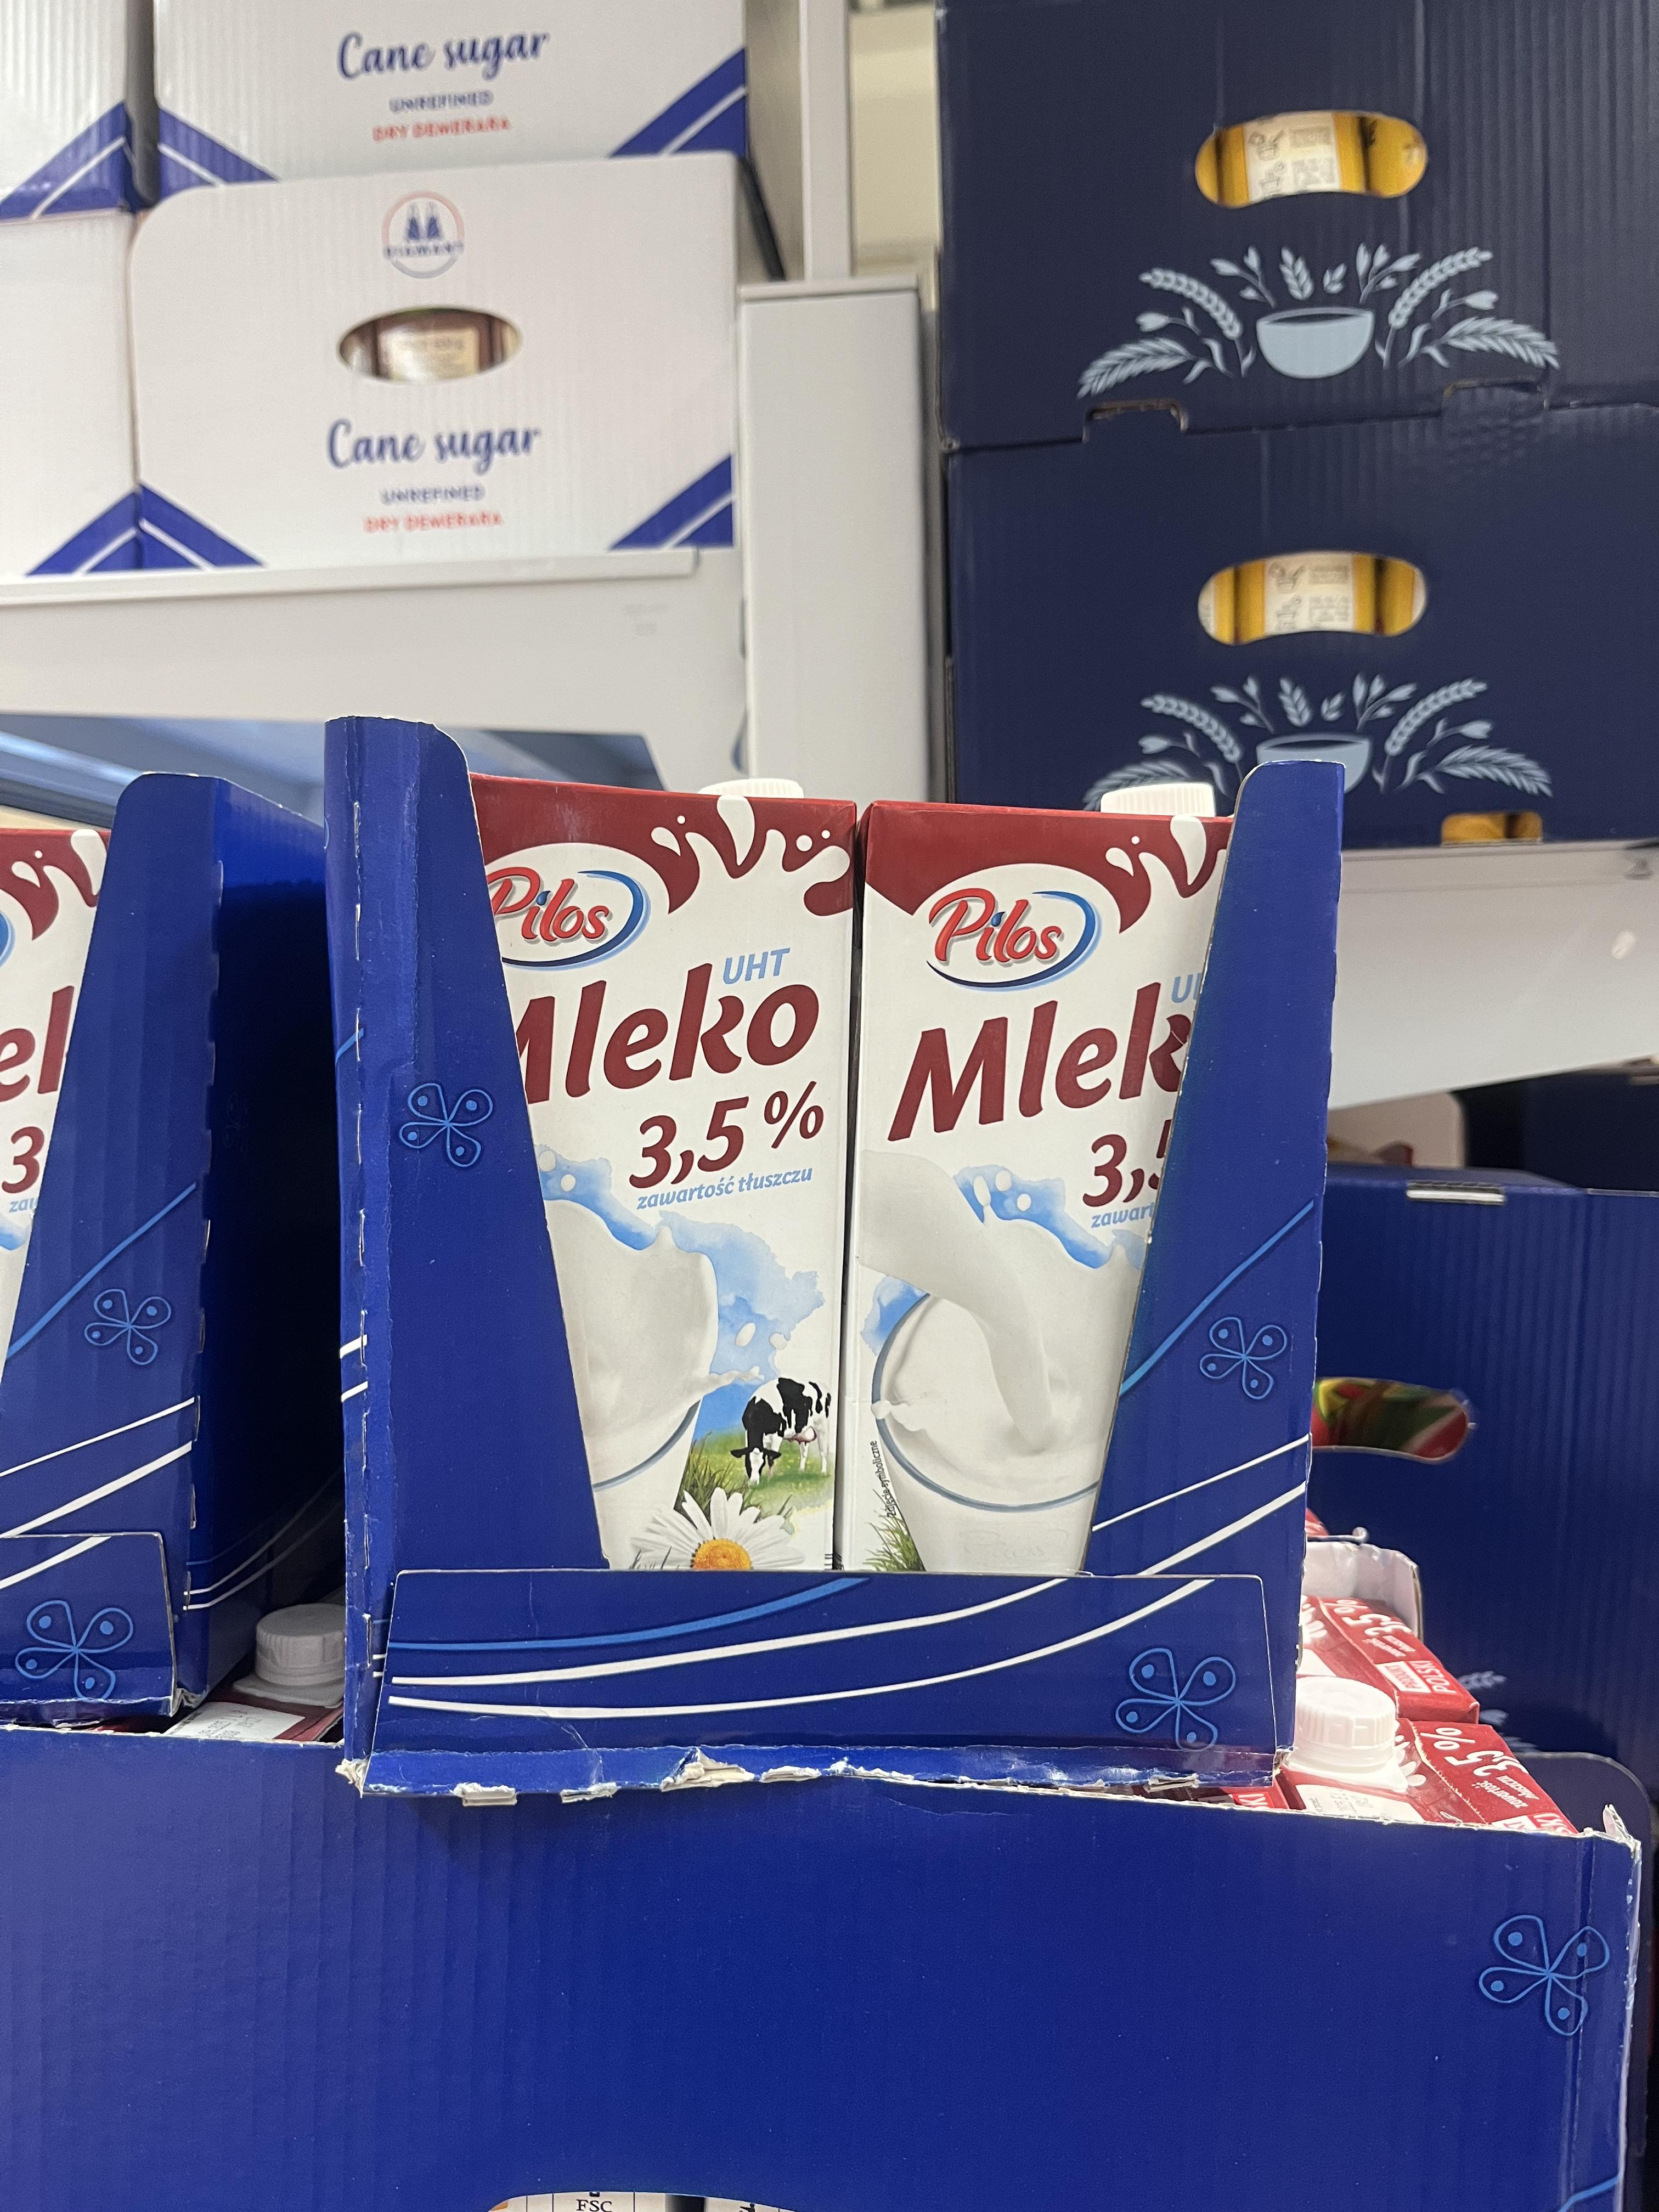Milk: (462, 775, 845, 1578), (843, 786, 1227, 1580)
